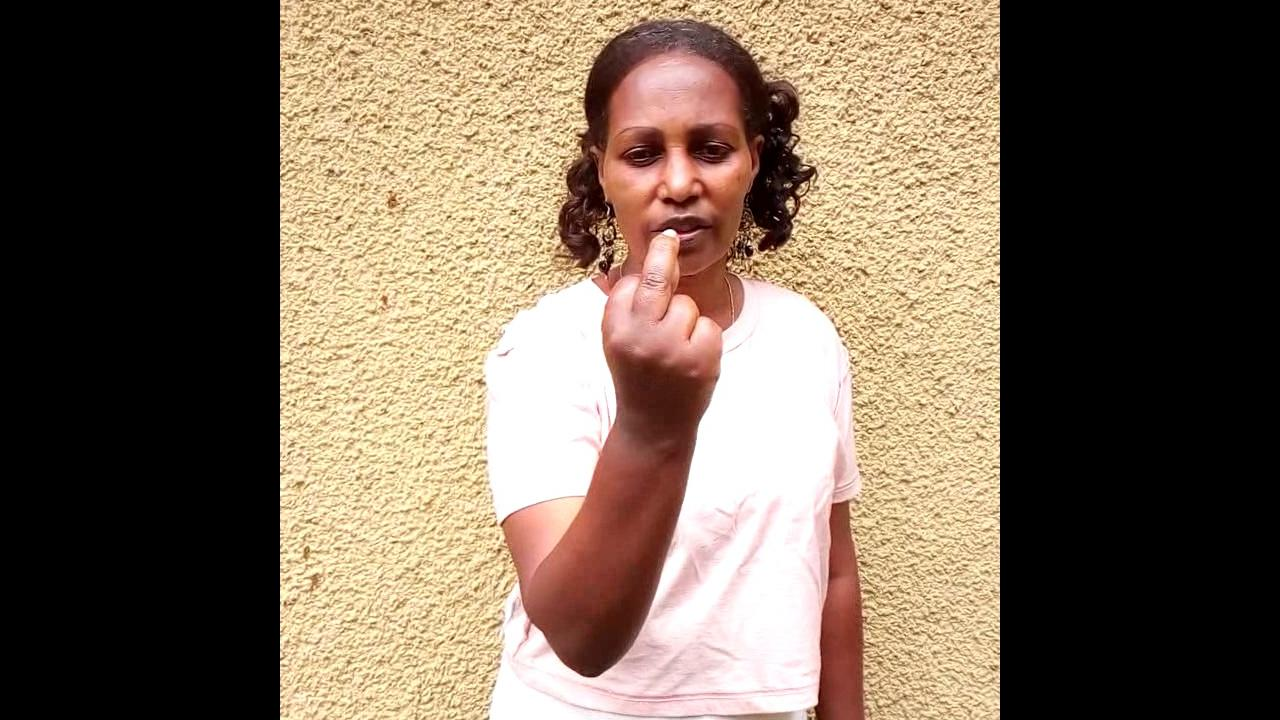CHE: (601, 228, 721, 534)
